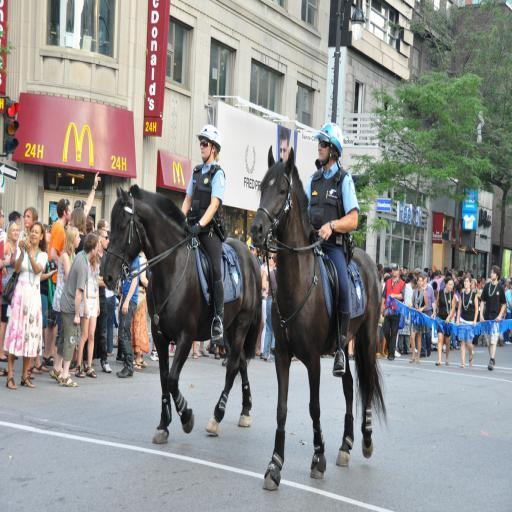horse: (250, 145, 386, 492), (101, 181, 263, 448)
